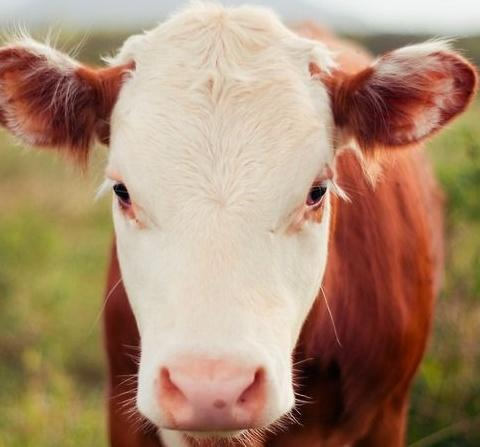muzzles: (132, 356, 305, 445)
